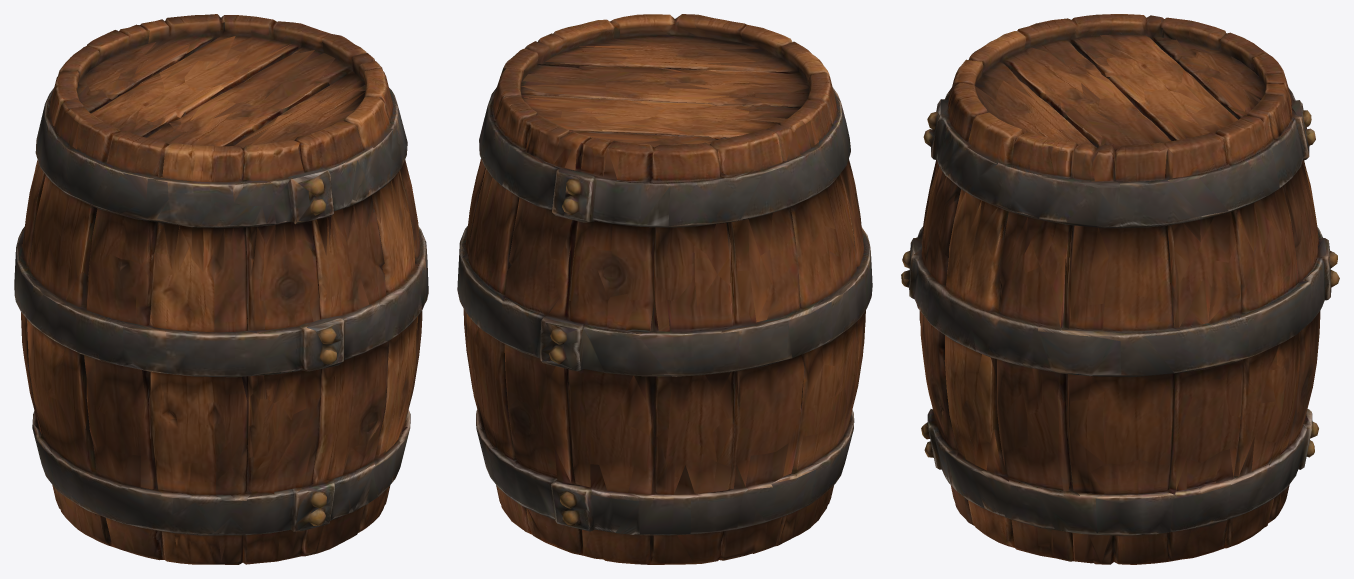
Rendered from barrel.glb.
3 renders of one model, left to right at view 1: azimuth 30°, elevation 25°; view 2: azimuth 150°, elevation 25°; view 3: azimuth 270°, elevation 25°, orthographic.
Visible parts, largest first — view 1: nebeljagd-tripo-barrel; view 2: nebeljagd-tripo-barrel; view 3: nebeljagd-tripo-barrel.
Boxes of the visible parts, bbox=[...] form: nebeljagd-tripo-barrel: bbox=[14, 14, 428, 564]; nebeljagd-tripo-barrel: bbox=[457, 14, 872, 564]; nebeljagd-tripo-barrel: bbox=[901, 14, 1339, 564].
Size of the model in its own units: 0.8625 by 0.9491 by 0.9101.
1 material, 1 textured.
